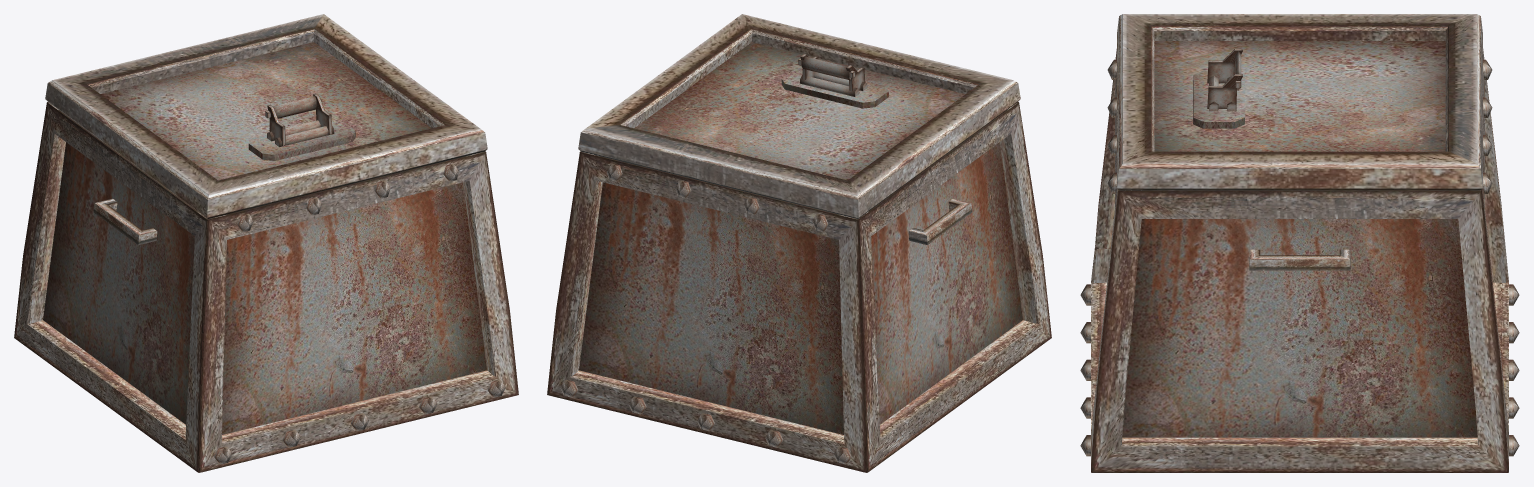
File: static.fbx
The picture shows the model from 3 angles, left to right: view 1: azimuth 30°, elevation 25°; view 2: azimuth 150°, elevation 25°; view 3: azimuth 270°, elevation 25°; orthographic projection. The views are drawn at different scales.
Parts seen in each view (by area): view 1: Cube_4, Sweep_6, Sweep_7, Sweep_8, Cube_2, Sweep_3, Cube_1, Cylinder_2, Cylinder; view 2: Cube_4, Sweep_6, Sweep_9, Sweep_8, Cube_2, Sweep_3, Cylinder_2, Cylinder_1; view 3: Cube_4, Sweep_10, Sweep_6, Sweep_9, Sweep_7, Cube_2, Sweep_3, Cube_1, Sweep_8.
Part boxes in pixels (bbox=[...]): Cube_4: bbox=[43, 42, 486, 434]; Sweep_6: bbox=[45, 14, 487, 218]; Sweep_7: bbox=[197, 152, 518, 472]; Sweep_8: bbox=[14, 102, 225, 472]; Cube_2: bbox=[248, 119, 355, 160]; Sweep_3: bbox=[93, 198, 157, 244]; Cube_1: bbox=[267, 93, 332, 146]; Cylinder_2: bbox=[269, 96, 316, 118]; Cylinder: bbox=[275, 125, 334, 146]; Cube_4: bbox=[579, 42, 1022, 434]; Sweep_6: bbox=[578, 14, 1020, 218]; Sweep_9: bbox=[547, 152, 868, 472]; Sweep_8: bbox=[840, 102, 1051, 472]; Cube_2: bbox=[781, 67, 888, 108]; Sweep_3: bbox=[908, 198, 972, 244]; Cylinder_2: bbox=[801, 56, 851, 80]; Cylinder_1: bbox=[800, 75, 859, 96]; Cube_4: bbox=[1122, 41, 1477, 437]; Sweep_10: bbox=[1091, 190, 1508, 472]; Sweep_6: bbox=[1117, 14, 1482, 190]; Sweep_9: bbox=[1476, 49, 1508, 472]; Sweep_7: bbox=[1091, 49, 1123, 472]; Cube_2: bbox=[1193, 70, 1245, 128]; Sweep_3: bbox=[1249, 249, 1350, 270]; Cube_1: bbox=[1207, 49, 1242, 108]; Sweep_8: bbox=[1094, 249, 1505, 282].
Bounding box in the file's own units: 199 × 169 × 209.
3 materials, 3 textured.
